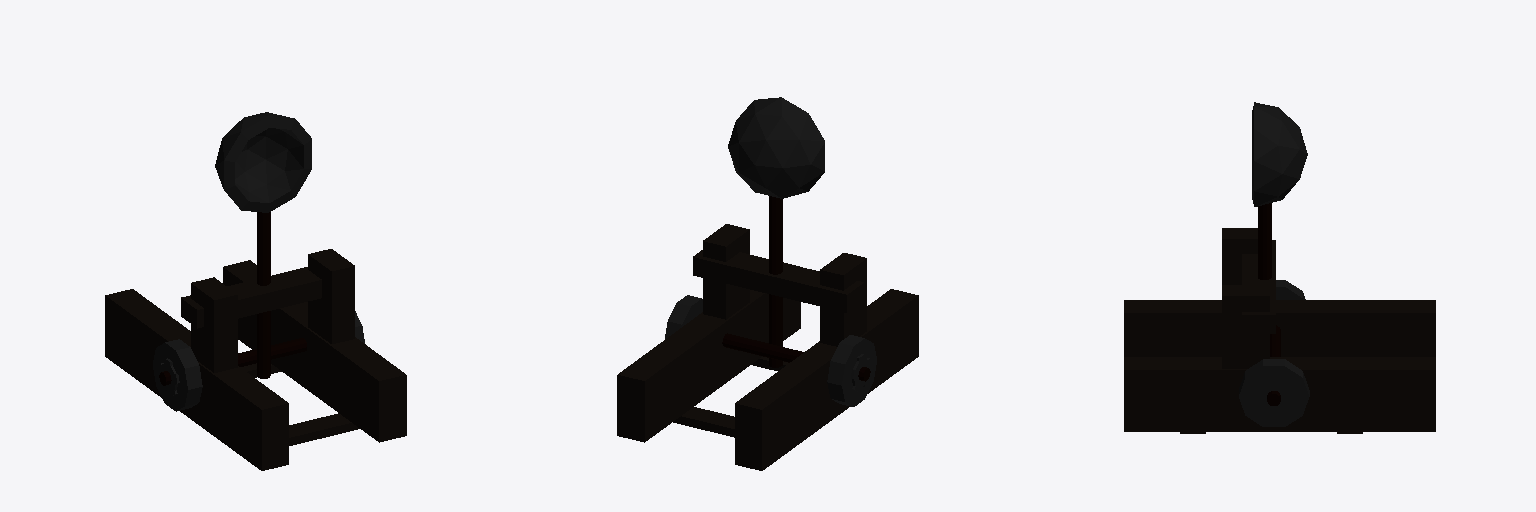
The model's file is Catapult_Parts.obj.
3 views of the same model, side by side, from view 1: azimuth 30°, elevation 25°; view 2: azimuth 150°, elevation 25°; view 3: azimuth 270°, elevation 25° (orthographic).
Parts seen in each view (by area): view 1: Frame_Cube.011, Arm.002_Icosphere.006, Wheels_Front.002_Cylinder.022, Crank.002_Cylinder.020, Wheels_Back.002_Cylinder.021; view 2: Frame_Cube.011, Arm.002_Icosphere.006, Wheels_Front.002_Cylinder.022, Crank.002_Cylinder.020, Wheels_Back.002_Cylinder.021; view 3: Frame_Cube.011, Arm.002_Icosphere.006, Wheels_Back.002_Cylinder.021.
Part boxes in pixels (left/top/right/bottom): Frame_Cube.011: left=105, top=249, right=406, bottom=470; Arm.002_Icosphere.006: left=215, top=112, right=311, bottom=378; Wheels_Front.002_Cylinder.022: left=153, top=326, right=364, bottom=411; Crank.002_Cylinder.020: left=159, top=338, right=306, bottom=395; Wheels_Back.002_Cylinder.021: left=165, top=311, right=364, bottom=410; Frame_Cube.011: left=617, top=224, right=918, bottom=470; Arm.002_Icosphere.006: left=728, top=97, right=824, bottom=367; Wheels_Front.002_Cylinder.022: left=665, top=297, right=876, bottom=406; Crank.002_Cylinder.020: left=722, top=333, right=870, bottom=391; Wheels_Back.002_Cylinder.021: left=665, top=295, right=863, bottom=406; Frame_Cube.011: left=1124, top=228, right=1435, bottom=433; Arm.002_Icosphere.006: left=1252, top=102, right=1307, bottom=349; Wheels_Back.002_Cylinder.021: left=1239, top=280, right=1309, bottom=426.
Bounding box in the file's own units: 6.55 × 9.73 × 9.23.